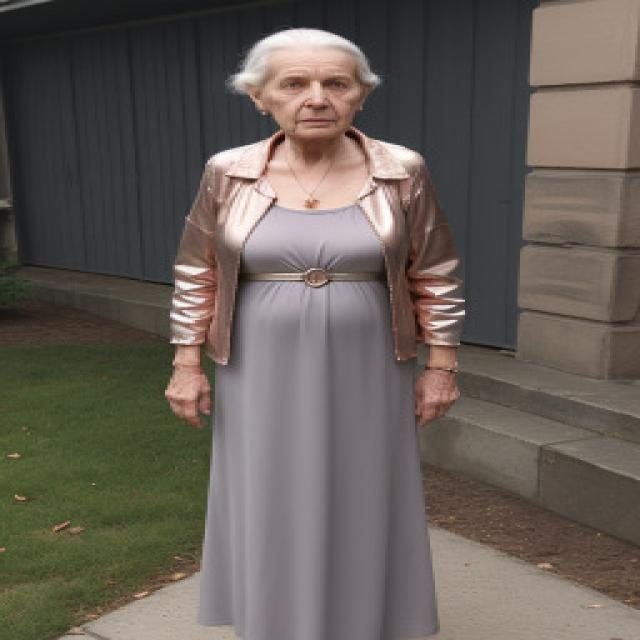Ai human 2: (148, 15, 492, 640)
